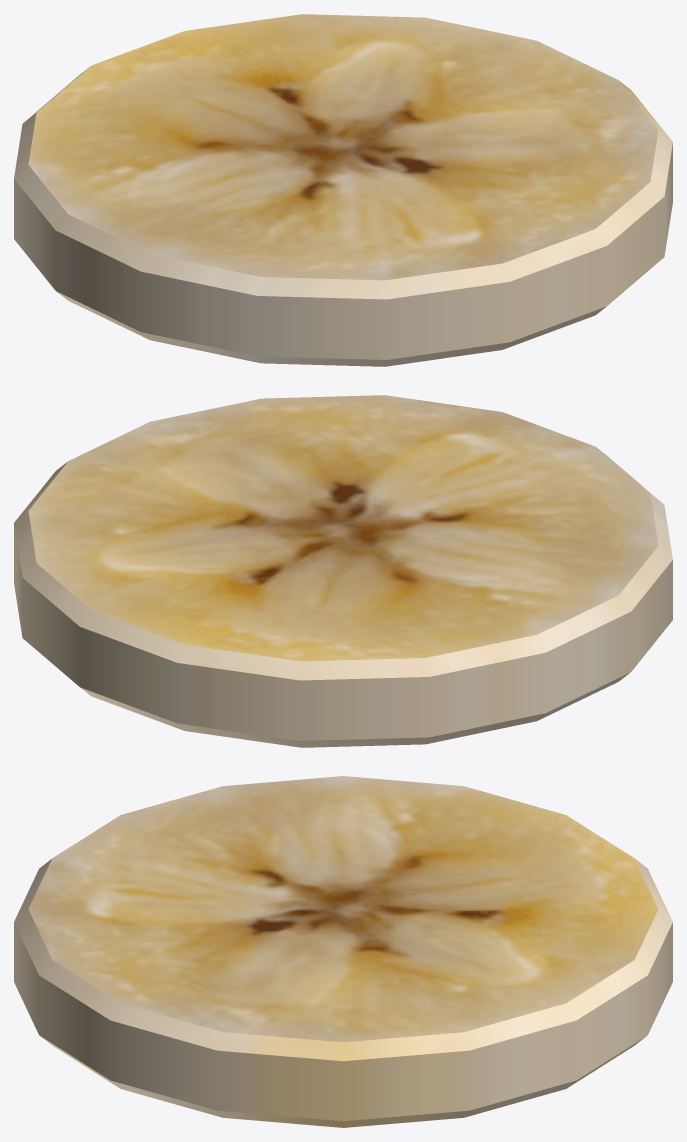
File: bananaslice.fbx
3 renders of one model, top to bottom at view 1: azimuth 30°, elevation 25°; view 2: azimuth 150°, elevation 25°; view 3: azimuth 270°, elevation 25°, orthographic.
Parts seen in each view (by area): view 1: Banana_Slice; view 2: Banana_Slice; view 3: Banana_Slice.
Boxes of the visible parts, x1,y1,x2,y2 form: Banana_Slice: (14,14,672,366); Banana_Slice: (14,395,672,747); Banana_Slice: (14,776,672,1127).
Bounding box in the file's own units: 0.2539 × 0.0364 × 0.2539.
Materials: 1 (1 with a texture image).
